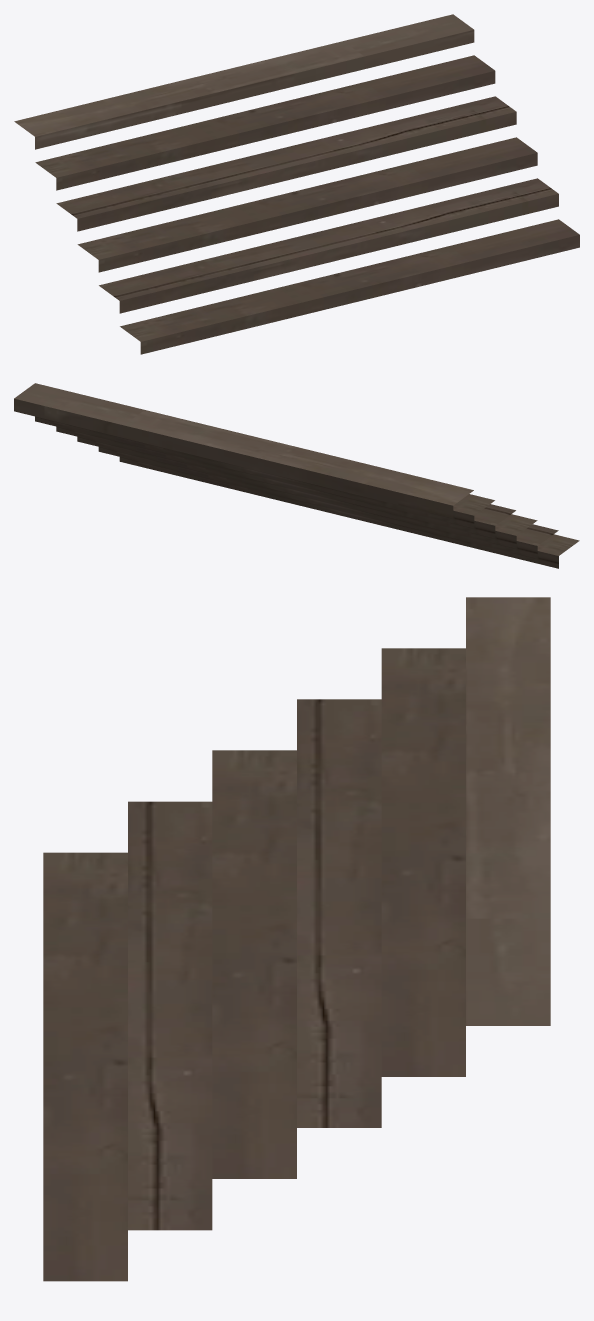
3 renders of one model, top to bottom at view 1: azimuth 30°, elevation 25°; view 2: azimuth 150°, elevation 25°; view 3: azimuth 270°, elevation 25°, orthographic. The views are drawn at different scales.
Visible parts, largest first — view 1: body0_model0_lod0_mesh0; view 2: body0_model0_lod0_mesh0; view 3: body0_model0_lod0_mesh0.
Boxes of the visible parts, box(x1,y1,x2,y2) form: body0_model0_lod0_mesh0: box(14, 14, 579, 354); body0_model0_lod0_mesh0: box(14, 383, 579, 568); body0_model0_lod0_mesh0: box(43, 597, 550, 1281).
Size of the model in its own units: 144 by 44 by 72.01.
1 material, 1 textured.
